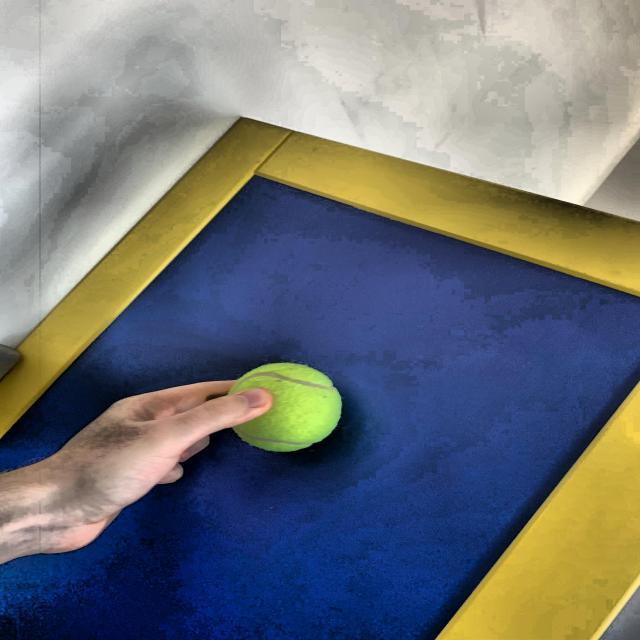tennis-ball: (231, 363, 347, 456)
